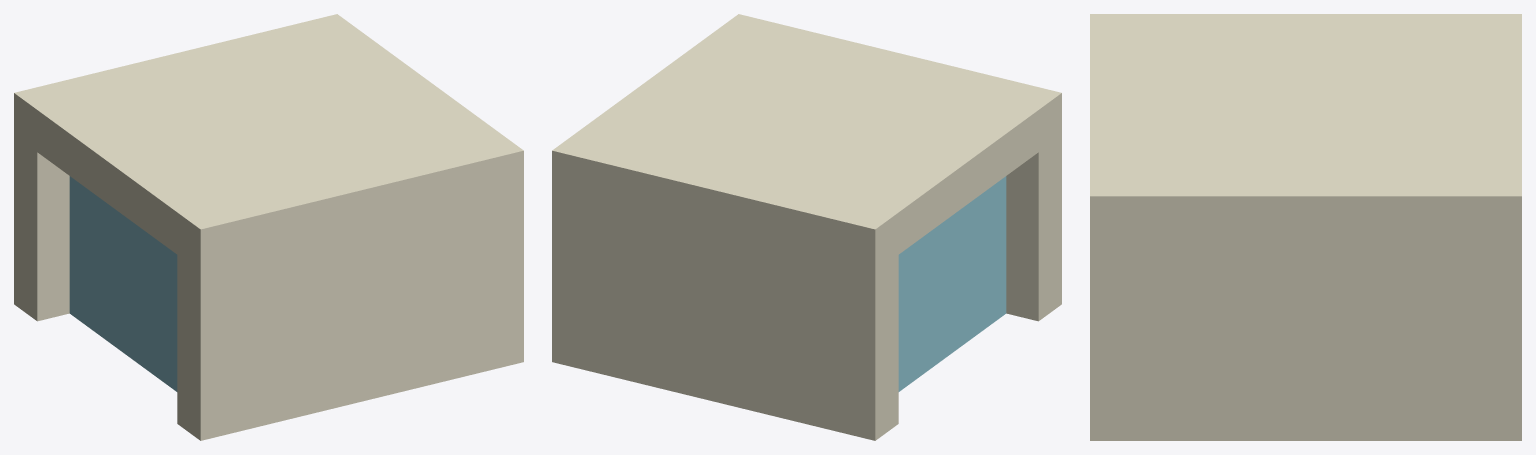
Rendered from modularBuildings_046.fbx.
The picture shows the model from 3 angles, left to right: view 1: azimuth 30°, elevation 25°; view 2: azimuth 150°, elevation 25°; view 3: azimuth 270°, elevation 25°; orthographic projection. The views are drawn at different scales.
Parts seen in each view (by area): view 1: Brick.Mesh1 Group1 Model, Glass; view 2: Brick.Mesh1 Group1 Model, Glass; view 3: Brick.Mesh1 Group1 Model.
Boxes of the visible parts, x1,y1,x2,y2 form: Brick.Mesh1 Group1 Model: [14, 14, 523, 440]; Glass: [69, 176, 177, 391]; Brick.Mesh1 Group1 Model: [552, 14, 1061, 440]; Glass: [898, 176, 1006, 391]; Brick.Mesh1 Group1 Model: [1090, 14, 1521, 440].
Bounding box in the file's own units: 1 × 0.625 × 1.
